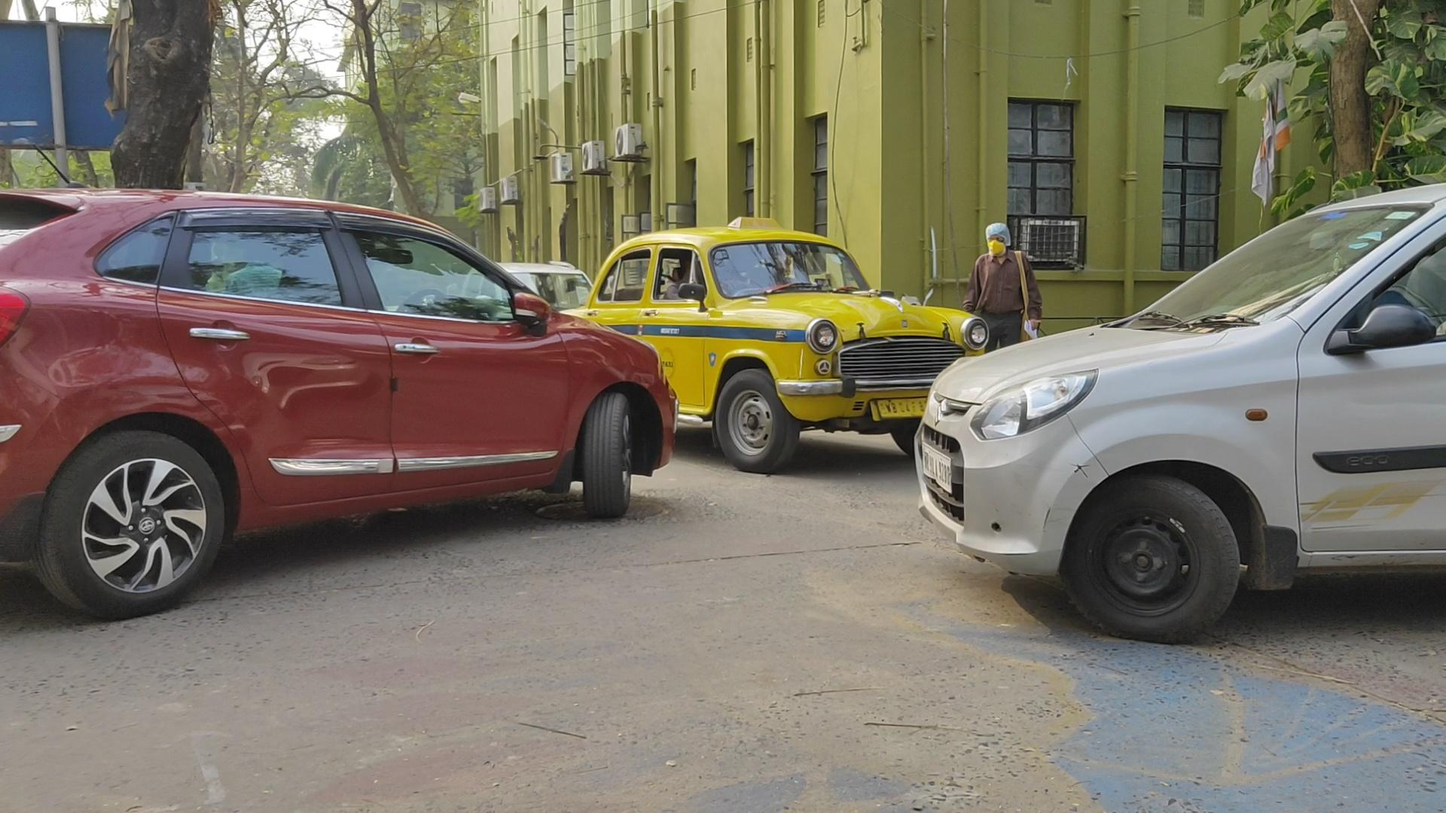car: (2, 186, 679, 620), (914, 181, 1446, 644), (566, 217, 990, 475)
